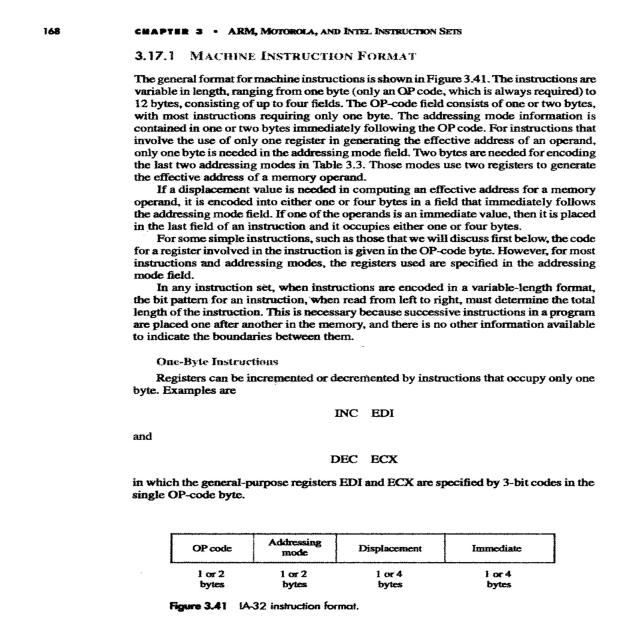diagram: (142, 504, 571, 619)
